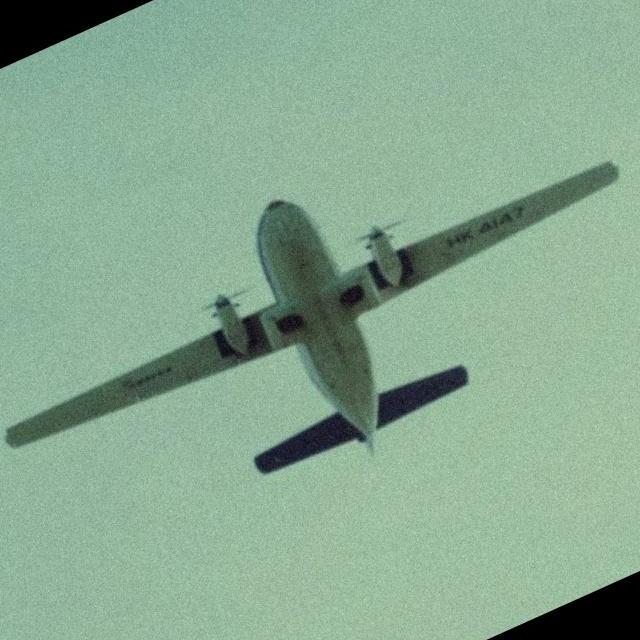airplane: (1, 158, 623, 477)
